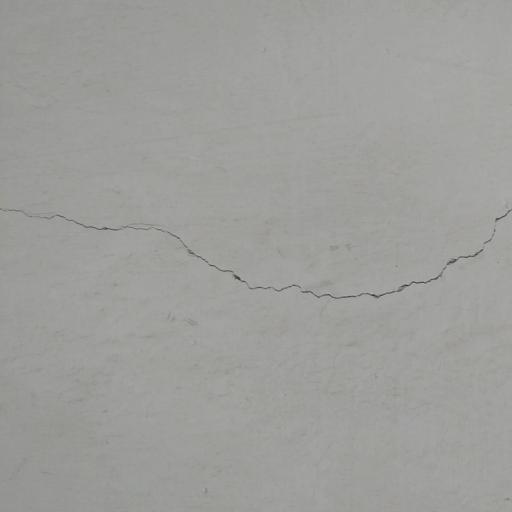major_crack: (1, 178, 512, 312)
